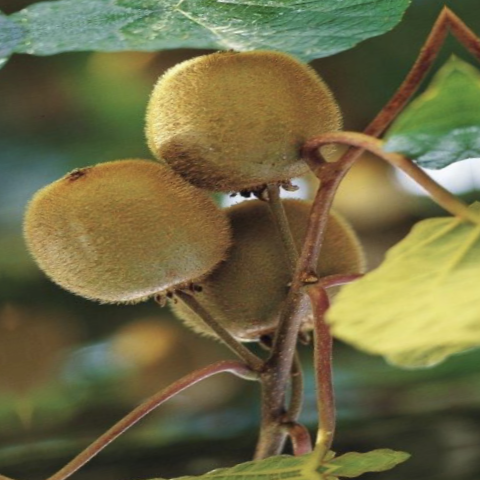kiwi: (103, 29, 370, 224), (135, 173, 374, 363), (0, 142, 247, 324)
